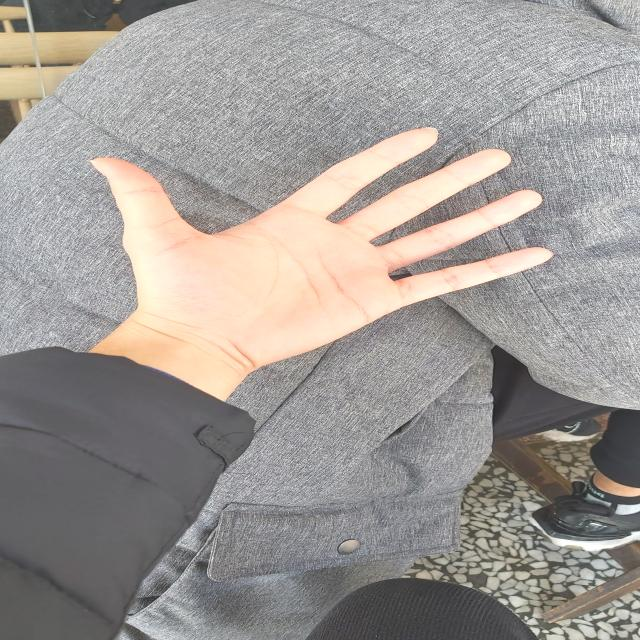no_glove: (67, 104, 579, 366)
